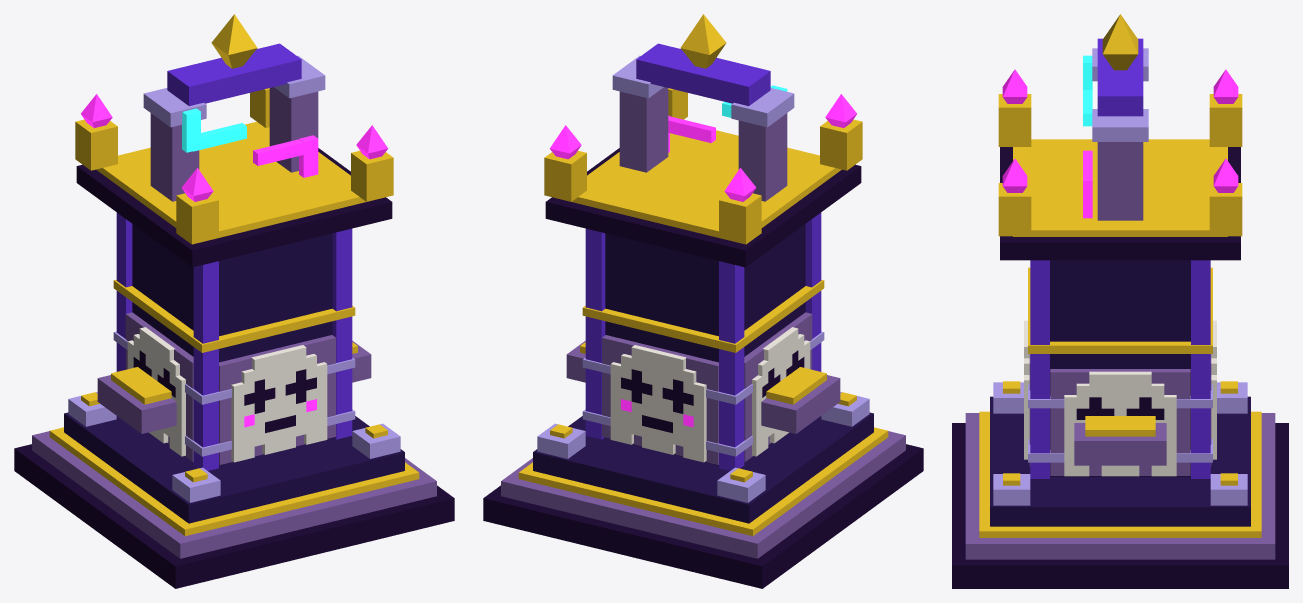
File: return-tier-3.glb
3 renders of one model, left to right at view 1: azimuth 30°, elevation 25°; view 2: azimuth 150°, elevation 25°; view 3: azimuth 270°, elevation 25°, orthographic. The views are drawn at different scales.
Parts seen in each view (by area): view 1: base-deep, base-gold, base-ink, base-stone, base-cream, base-purple, crown-stone, crown-purple, base-lavender, crown-lavender, base-pink, crown-teal (+2 smaller); view 2: base-deep, base-gold, base-ink, base-stone, base-cream, base-purple, crown-stone, crown-purple, base-lavender, crown-lavender, base-pink, crown-gold (+1 smaller); view 3: base-gold, base-deep, base-ink, base-stone, base-purple, base-cream, base-lavender, crown-stone, crown-purple, base-pink, crown-lavender, crown-gold (+2 smaller).
Boxes of the visible parts, x1=… form: base-deep: x1=64, y1=224, x2=404, y2=523; base-gold: x1=49, y1=88, x2=419, y2=536; base-ink: x1=14, y1=148, x2=454, y2=588; base-stone: x1=32, y1=312, x2=436, y2=558; base-cream: x1=127, y1=327, x2=327, y2=462; base-purple: x1=116, y1=212, x2=352, y2=470; crown-stone: x1=150, y1=87, x2=318, y2=201; crown-purple: x1=167, y1=43, x2=301, y2=106; base-lavender: x1=68, y1=331, x2=400, y2=502; crown-lavender: x1=143, y1=55, x2=325, y2=127; base-pink: x1=81, y1=94, x2=388, y2=427; crown-teal: x1=182, y1=108, x2=246, y2=152; base-deep: x1=533, y1=224, x2=873, y2=523; base-gold: x1=518, y1=88, x2=888, y2=536; base-ink: x1=483, y1=148, x2=923, y2=588; base-stone: x1=501, y1=312, x2=905, y2=558; base-cream: x1=610, y1=327, x2=810, y2=462; base-purple: x1=585, y1=212, x2=821, y2=470; crown-stone: x1=619, y1=87, x2=787, y2=201; crown-purple: x1=636, y1=43, x2=770, y2=106; base-lavender: x1=537, y1=331, x2=869, y2=502; crown-lavender: x1=612, y1=55, x2=794, y2=127; base-pink: x1=549, y1=94, x2=856, y2=427; crown-gold: x1=680, y1=14, x2=726, y2=68; base-gold: x1=979, y1=94, x2=1261, y2=537; base-deep: x1=990, y1=260, x2=1250, y2=526; base-ink: x1=952, y1=147, x2=1288, y2=588; base-stone: x1=965, y1=354, x2=1275, y2=559; base-purple: x1=1030, y1=260, x2=1210, y2=478; base-cream: x1=1024, y1=320, x2=1216, y2=476; base-lavender: x1=993, y1=382, x2=1247, y2=505; crown-stone: x1=1097, y1=142, x2=1143, y2=220; crown-purple: x1=1097, y1=38, x2=1143, y2=116; base-pink: x1=1002, y1=69, x2=1238, y2=192; crown-lavender: x1=1092, y1=48, x2=1148, y2=141; crown-gold: x1=1102, y1=14, x2=1138, y2=70.
Size of the model in its own units: 3.1 by 5.11 by 3.1.
